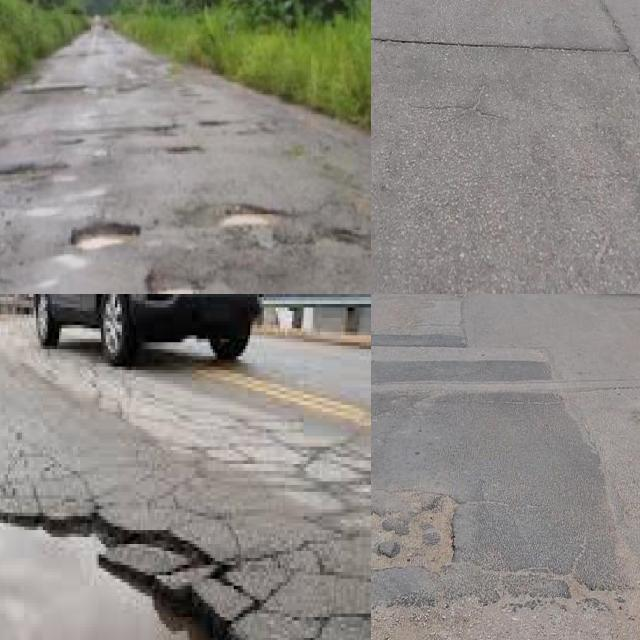Pothole: (0, 510, 224, 640), (377, 489, 463, 576), (68, 221, 142, 251), (144, 264, 207, 294), (222, 204, 288, 228)
